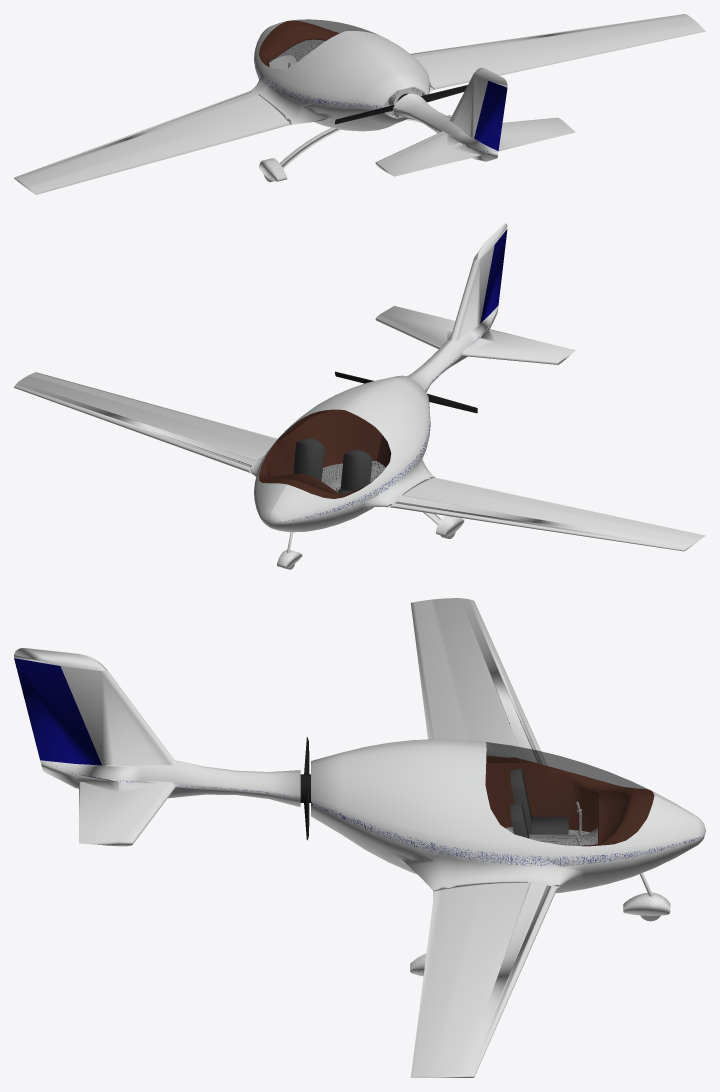
3 renders of one model, top to bottom at view 1: azimuth 30°, elevation 25°; view 2: azimuth 150°, elevation 25°; view 3: azimuth 270°, elevation 25°, orthographic. The views are drawn at different scales.
Visible parts, largest first — view 1: mesh1_mesh1-geometry, mesh2_mesh2-geometry, mesh9_mesh9-geometry, mesh10_mesh10-geometry; view 2: mesh1_mesh1-geometry; view 3: mesh1_mesh1-geometry, mesh4_mesh4-geometry.
Part boxes in pixels (x1,y1,x2,y2): mesh1_mesh1-geometry: (14, 14, 705, 194); mesh2_mesh2-geometry: (259, 127, 341, 181); mesh9_mesh9-geometry: (335, 105, 394, 124); mesh10_mesh10-geometry: (420, 85, 467, 102); mesh1_mesh1-geometry: (14, 223, 705, 553); mesh1_mesh1-geometry: (14, 598, 705, 1077); mesh4_mesh4-geometry: (623, 892, 670, 921).
Size of the model in its own units: 0.8305 by 0.2209 by 0.5113.
